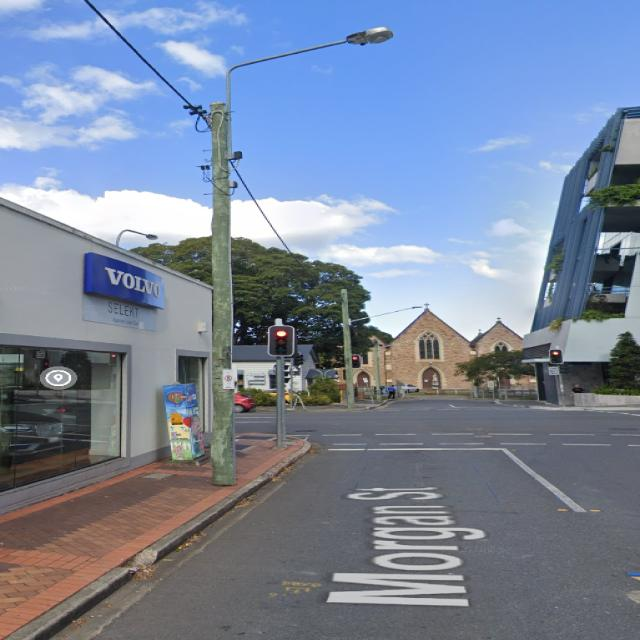mid mount pole: (206, 26, 396, 487)
steel-pole: (272, 316, 286, 450), (554, 344, 562, 405)
streetlight: (225, 26, 397, 106), (349, 304, 424, 323)
timber-pole: (207, 102, 232, 488), (338, 286, 356, 408)
traffic pole: (266, 316, 297, 450), (548, 345, 566, 408)
traffic-light: (267, 323, 297, 358), (348, 352, 362, 369), (551, 350, 562, 365)
